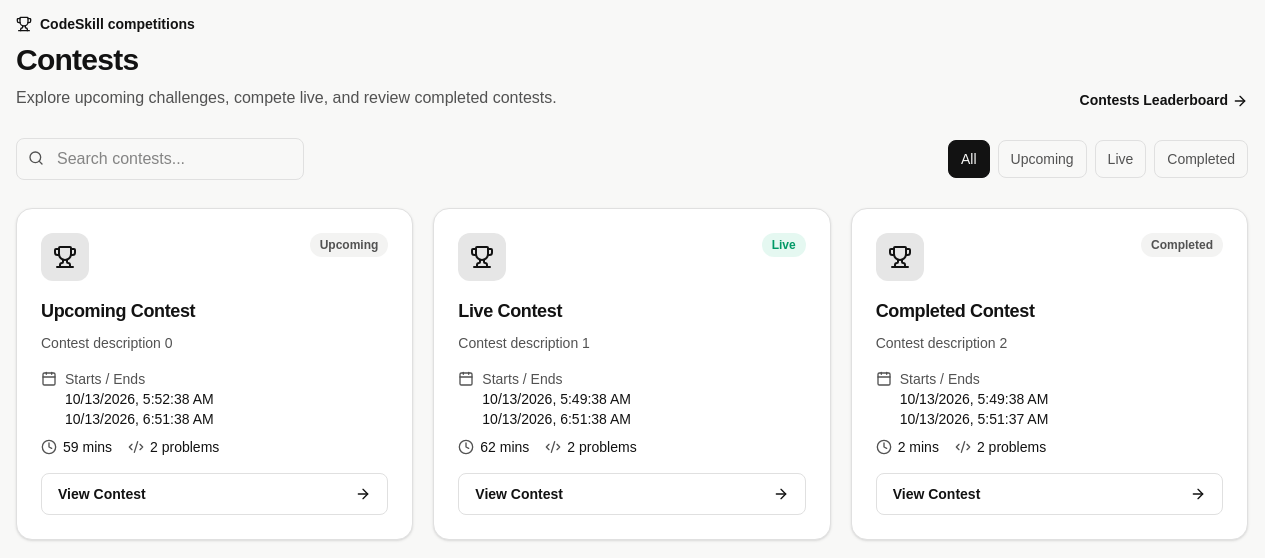
it: renders persisted contests with separate statuses and canonical detail URLs
Check: the heading "Live Contest" is shown, box top-left (458, 301), bottom-right (562, 321)
Click the button "Live". click: (1120, 159)
box: top-left (1095, 140), bottom-right (1146, 178)
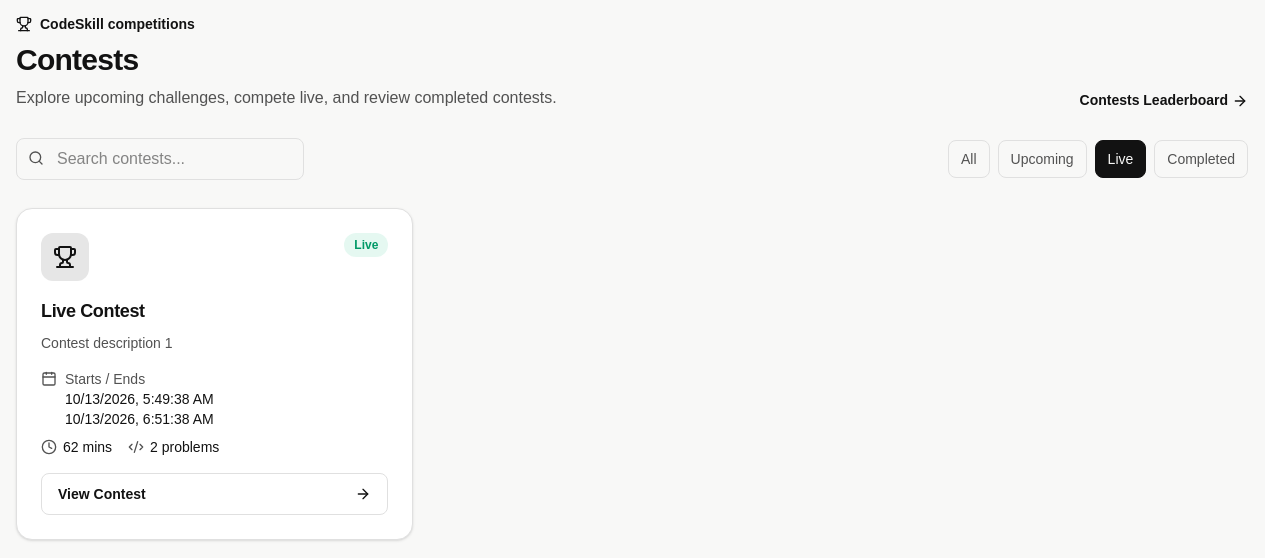
Type "No match" into the field labelled "Search contests". click: (160, 159)
box: top-left (16, 138), bottom-right (304, 180)
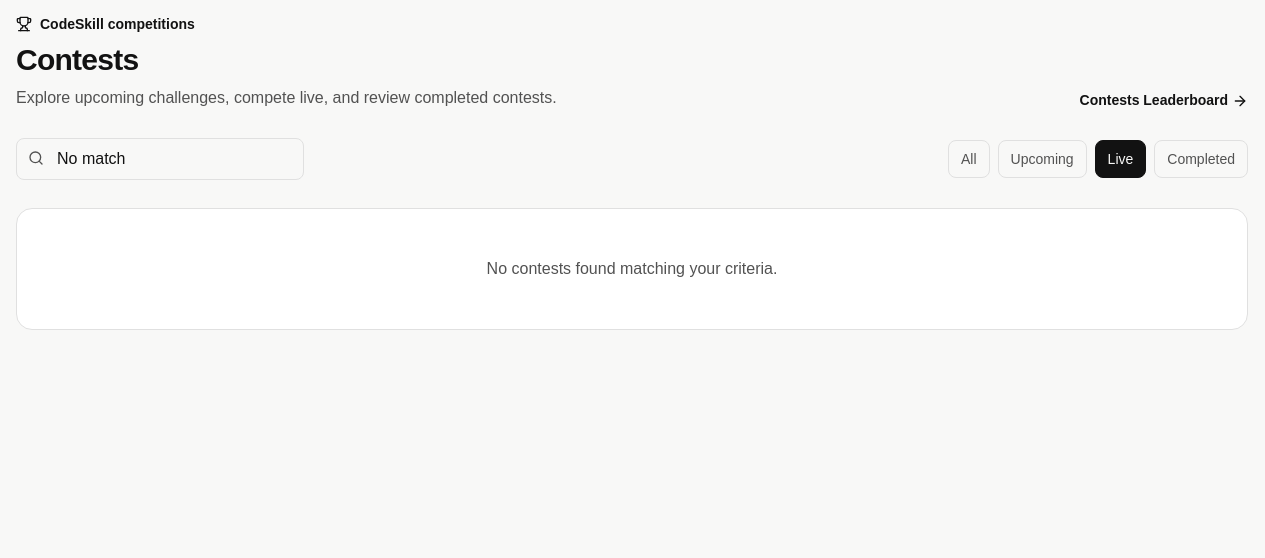
Check: the text "No contests found matching your criteria." is shown, box top-left (16, 208), bottom-right (1248, 330)
